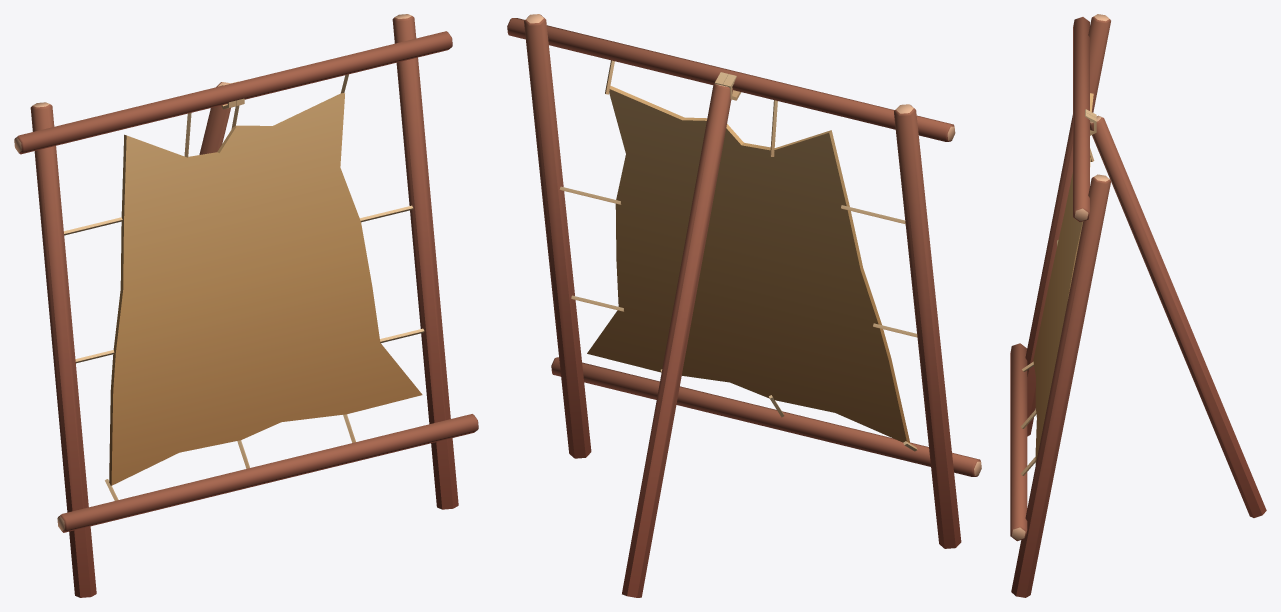
The model's file is rack_hide.fbx.
The picture shows the model from 3 angles, left to right: view 1: azimuth 30°, elevation 25°; view 2: azimuth 150°, elevation 25°; view 3: azimuth 270°, elevation 25°; orthographic projection. The views are drawn at different scales.
Parts seen in each view (by area): view 1: rack_hide; view 2: rack_hide; view 3: rack_hide.
Part boxes in pixels (x1,y1,x2,y2): rack_hide: (14, 14, 478, 597); rack_hide: (507, 14, 981, 597); rack_hide: (1010, 14, 1266, 597).
Bounding box in the file's own units: 1 × 1.02 × 0.5677.
1 material, 1 textured.
